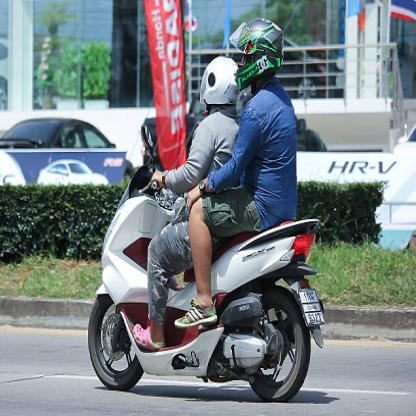Motorcycle: (86, 162, 321, 409)
